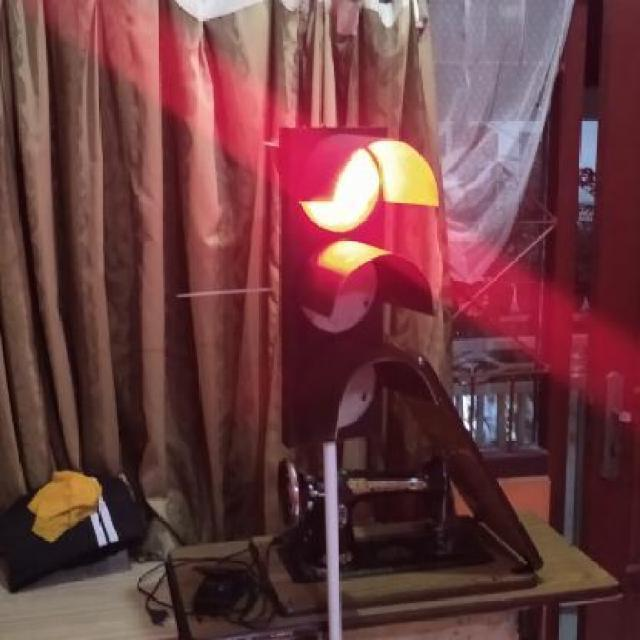red_light: (278, 127, 438, 442)
